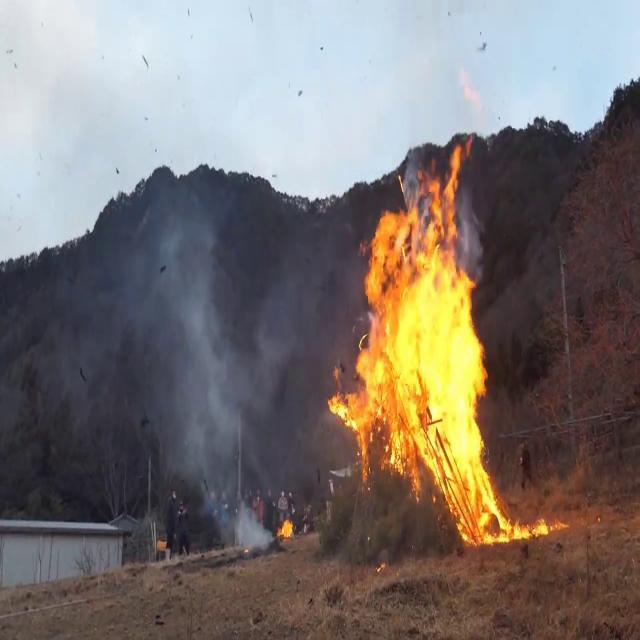Fire: (330, 137, 500, 554), (504, 502, 564, 542), (276, 516, 296, 542)
Smoke: (92, 165, 316, 544)
